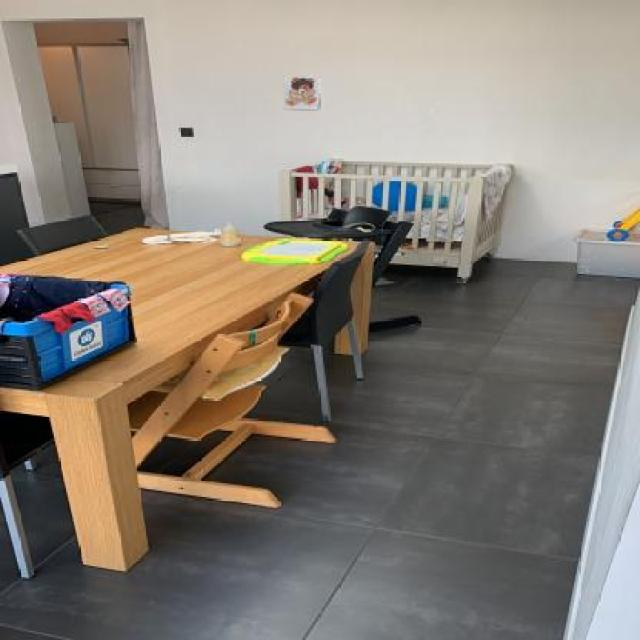floor: (0, 254, 640, 640)
